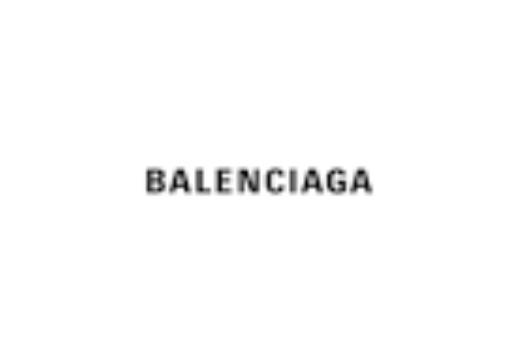BALENCIAGA: (142, 160, 383, 194)
